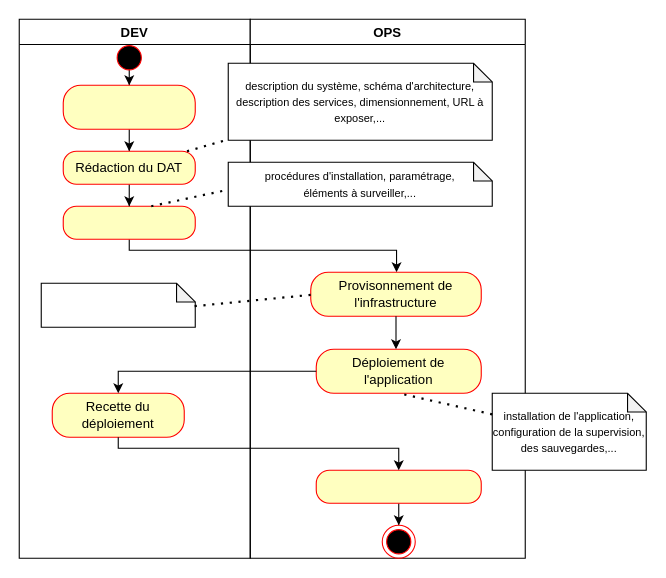
This 666x578 diagram has some shape labels left out. The shapes that lost their labels are listed below. From the top down, each one's centre as x and y in pixels, then its label:
the point at 128,106: Préparation d'une version
the point at 128,222: Rédaction du DEX
the point at 117,304: création des VM, configuration réseau,...
the point at 398,486: Surveillance du système
